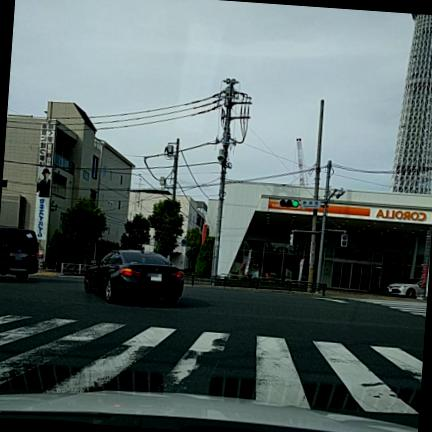Road: (0, 276, 426, 426)
